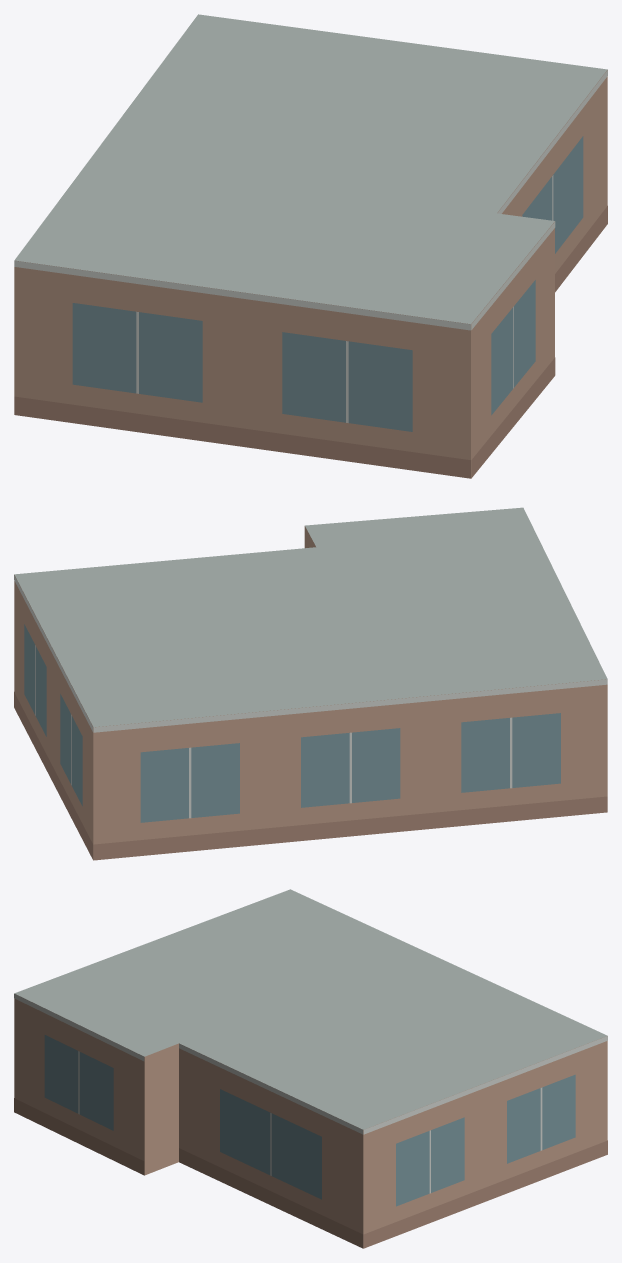
File: survey-upis-32970504.glb
The picture shows the model from 3 angles, top to bottom: view 1: azimuth 30°, elevation 25°; view 2: azimuth 150°, elevation 25°; view 3: azimuth 270°, elevation 25°; orthographic projection. The views are drawn at different scales.
Parts seen in each view (by area): view 1: survey-upis-32970504.tmp; view 2: survey-upis-32970504.tmp; view 3: survey-upis-32970504.tmp.
Part boxes in pixels (x1,y1,x2,y2): survey-upis-32970504.tmp: [14, 14, 607, 478]; survey-upis-32970504.tmp: [14, 507, 607, 860]; survey-upis-32970504.tmp: [14, 889, 607, 1248].
Size of the model in its own units: 13.26 by 3.05 by 13.82.
